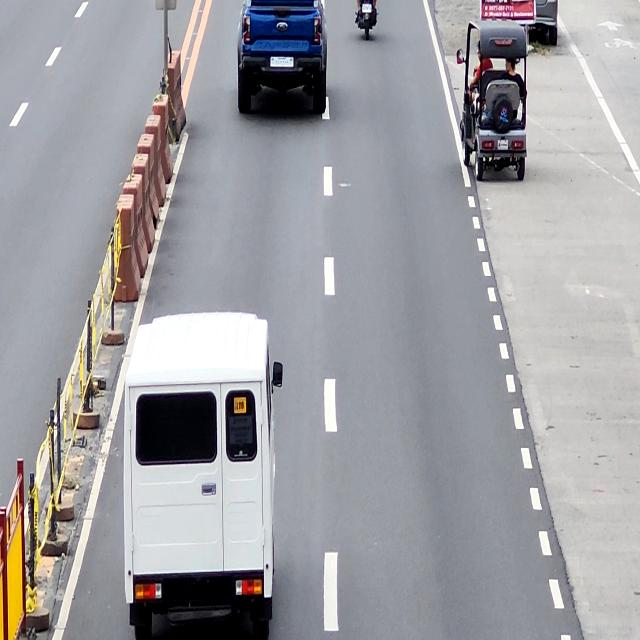Car: (122, 310, 283, 640), (236, 0, 328, 116)
E-bike: (456, 18, 527, 183)
License-Plate: (270, 58, 294, 67), (362, 3, 372, 13)
Motorcycle: (357, 0, 378, 42)
